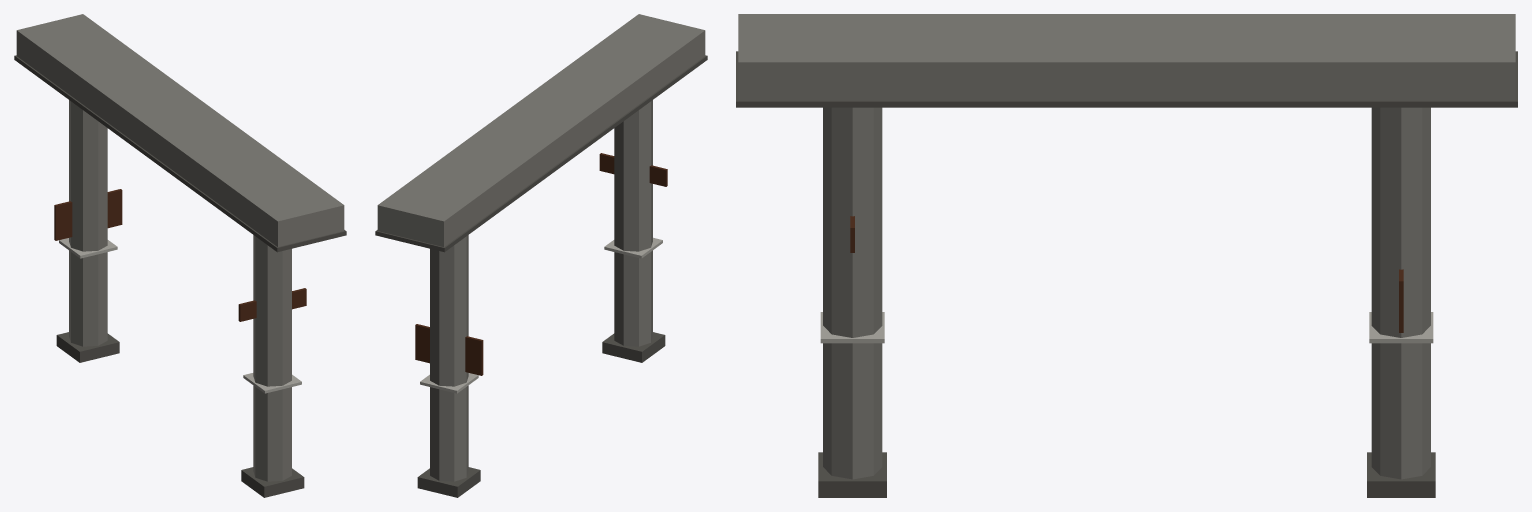
The model's file is env_bridge_bent.fbx.
3 views of the same model, side by side, from view 1: azimuth 30°, elevation 25°; view 2: azimuth 150°, elevation 25°; view 3: azimuth 270°, elevation 25° (orthographic). The views are drawn at different scales.
Parts seen in each view (by area): view 1: env_bridge_bent; view 2: env_bridge_bent; view 3: env_bridge_bent.
Part boxes in pixels (x1=…): env_bridge_bent: x1=14, y1=14, x2=346, y2=497; env_bridge_bent: x1=375, y1=14, x2=707, y2=497; env_bridge_bent: x1=736, y1=14, x2=1517, y2=497.
Size of the model in its own units: 520 by 2150 by 3420.
